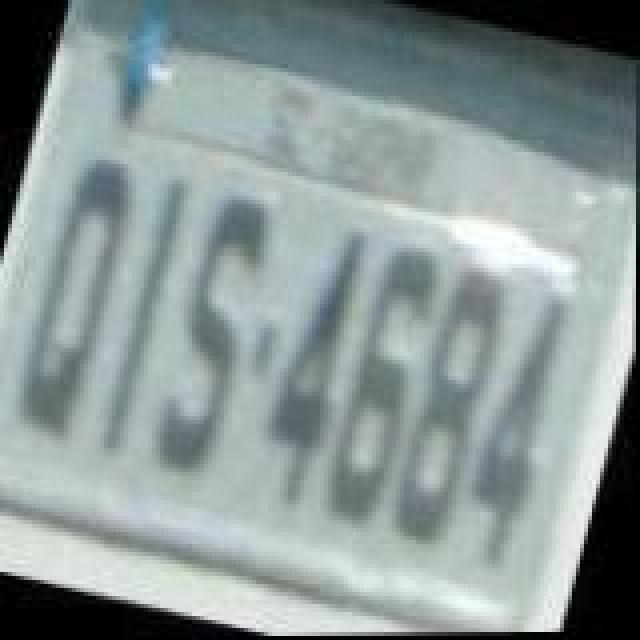1: (98, 168, 198, 452)
4: (246, 212, 386, 516), (452, 274, 592, 578)
6: (320, 234, 448, 526)
8: (384, 252, 520, 552)
Q: (6, 146, 146, 446)
S: (148, 188, 284, 480)
